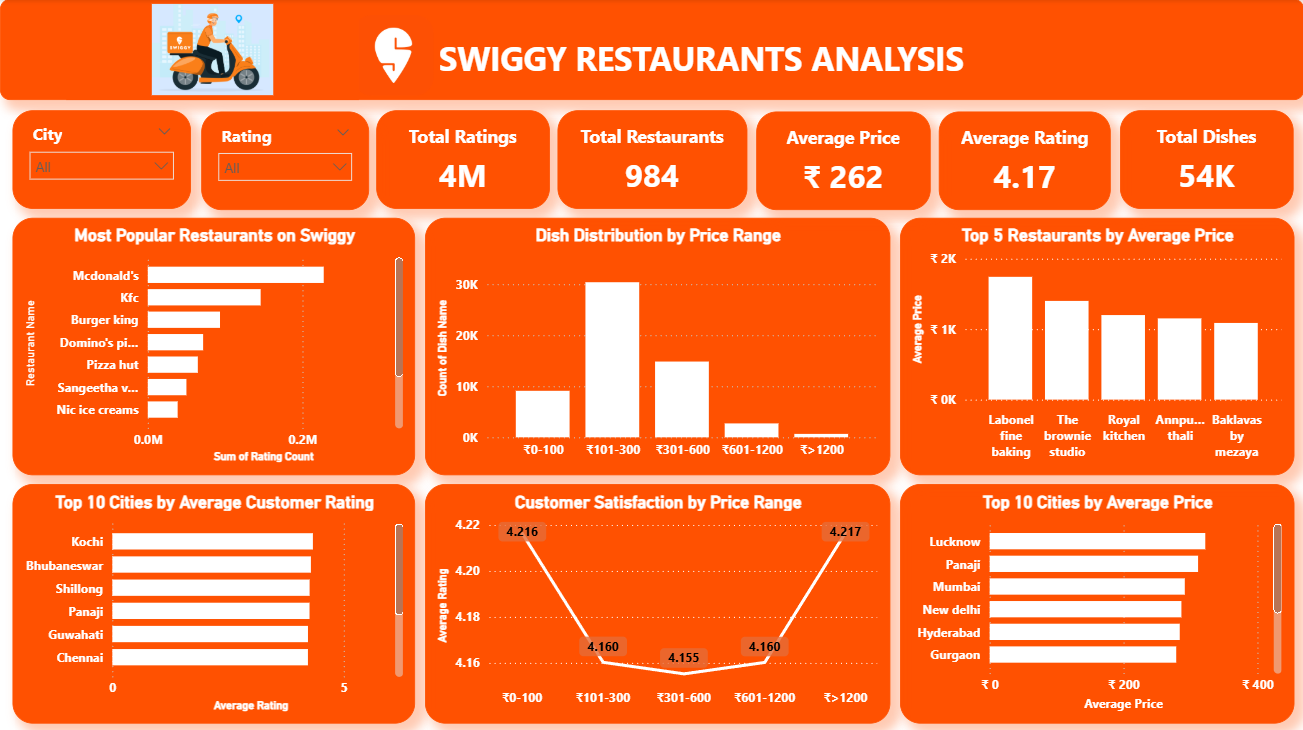

What the dashboard file says about the page in this screenshot:
{"tool":"powerbi","page":{"name":"Page 1","canvas":[1280,720],"ordinal":0},"visuals":[{"type":"textbox","box":[0,0,1280,99.5],"z":0},{"type":"cardVisual","fields":{"Data":["swiggy_final_for_powerbi_clean.Total Ratings"]},"box":[369.5,109.5,170.4,97],"z":1000},{"type":"barChart","title":"Top 10 Cities by Average Price","fields":{"Category":["swiggy_final_for_powerbi_clean.City"],"Y":["swiggy_final_for_powerbi_clean.Average Price"]},"box":[883.2,476.4,386.9,235.1],"z":2000},{"type":"columnChart","title":"Top 5 Restaurants by Average Price","fields":{"Category":["swiggy_final_for_powerbi_clean.Restaurant Name"],"Y":["swiggy_final_for_powerbi_clean.Average Price"]},"box":[883.2,215.2,386.9,252.5],"z":3000},{"type":"slicer","fields":{"Values":["swiggy_final_for_powerbi_clean.City"]},"box":[12.4,109.5,175,97],"z":4000},{"type":"slicer","title":"Price Range","fields":{"Values":["swiggy_final_for_powerbi_clean.Rating"]},"box":[197,110.7,165,97],"z":5000},{"type":"columnChart","title":"Dish Distribution by Price Range","fields":{"Y":["Count(swiggy_final_for_powerbi_clean.Dish Name)"],"Category":["swiggy_final_for_powerbi_clean.Price Bin (INR)"]},"box":[416.7,215.2,456.5,252.5],"z":6000},{"type":"clusteredBarChart","title":"Most Popular Restaurants on Swiggy","fields":{"Y":["Sum(swiggy_final_for_powerbi_clean.Rating Count)"],"Category":["swiggy_final_for_powerbi_clean.Restaurant Name"]},"box":[12.4,215.2,395.6,252.5],"z":7000},{"type":"lineChart","title":"Customer Satisfaction by Price Range","fields":{"Y":["swiggy_final_for_powerbi_clean.Average Rating"],"Category":["swiggy_final_for_powerbi_clean.Price Bin (INR)"]},"box":[416.7,476.4,456.5,235.1],"z":8000},{"type":"image","box":[283.6,1.2,205.3,108.2],"z":9000},{"type":"image","box":[64.7,0,287.4,99.5],"z":10000},{"type":"cardVisual","fields":{"Data":["swiggy_final_for_powerbi_clean.Total Restaurants"]},"box":[547,109.5,186,97],"z":11000},{"type":"cardVisual","fields":{"Data":["swiggy_final_for_powerbi_clean.Total Dishes"]},"box":[1099.7,109.5,170.4,97],"z":12000},{"type":"cardVisual","fields":{"Data":["swiggy_final_for_powerbi_clean.Average Rating"]},"box":[922,110.7,169.2,97],"z":13000},{"type":"cardVisual","fields":{"Data":["swiggy_final_for_powerbi_clean.Average Price"]},"box":[742,110.7,171,97],"z":14000},{"type":"barChart","title":"Top 10 Cities by Average Customer Rating","fields":{"Category":["swiggy_final_for_powerbi_clean.City"],"Y":["swiggy_final_for_powerbi_clean.Average Rating"]},"box":[12.4,476.4,395.6,235.1],"z":15000}]}

Visuals, with their boxes in screenshot pixels (x1, y1, x2, y2), scaled from the page's 1280x720 canvas onto the 1303x730 screenshot:
textbox: [x1=0, y1=0, x2=1302, y2=101]
cardVisual - swiggy_final_for_powerbi_clean.Total Ratings: [x1=376, y1=111, x2=550, y2=209]
"Top 10 Cities by Average Price" barChart: [x1=899, y1=483, x2=1293, y2=721]
"Top 5 Restaurants by Average Price" columnChart: [x1=899, y1=218, x2=1293, y2=474]
slicer - swiggy_final_for_powerbi_clean.City: [x1=13, y1=111, x2=191, y2=209]
"Price Range" slicer: [x1=201, y1=112, x2=369, y2=211]
"Dish Distribution by Price Range" columnChart: [x1=424, y1=218, x2=889, y2=474]
"Most Popular Restaurants on Swiggy" clusteredBarChart: [x1=13, y1=218, x2=415, y2=474]
"Customer Satisfaction by Price Range" lineChart: [x1=424, y1=483, x2=889, y2=721]
image: [x1=289, y1=1, x2=498, y2=111]
image: [x1=66, y1=0, x2=358, y2=101]
cardVisual - swiggy_final_for_powerbi_clean.Total Restaurants: [x1=557, y1=111, x2=746, y2=209]
cardVisual - swiggy_final_for_powerbi_clean.Total Dishes: [x1=1119, y1=111, x2=1293, y2=209]
cardVisual - swiggy_final_for_powerbi_clean.Average Rating: [x1=939, y1=112, x2=1111, y2=211]
cardVisual - swiggy_final_for_powerbi_clean.Average Price: [x1=755, y1=112, x2=929, y2=211]
"Top 10 Cities by Average Customer Rating" barChart: [x1=13, y1=483, x2=415, y2=721]
